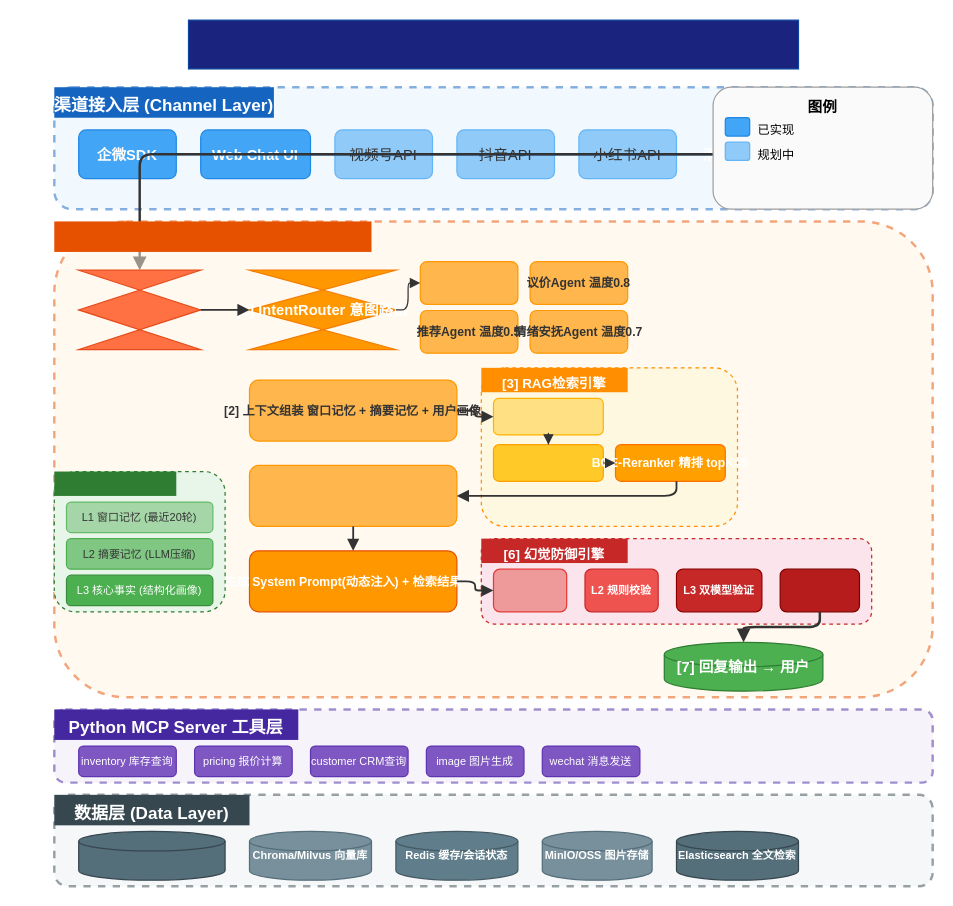
Image size: 953x906. Some labels were removed from this diagram. The centre of each missing label's shape, as x and y in pixels:
[0] 安全过滤 注入检测 no_reply分类: point 139,309
[4] 工具调用 (LLM自主决策) searchInventory / getAllCars / getStoreInfo: point 352,495
BM25+BGE-M3 混合检索: point 547,462
L1 Prompt规则: point 529,590
PostgreSQL 业务数据/记忆持久化: point 151,855
Query改写/扩展: point 547,416
售前Agent 温度0.3: point 468,282
对话记忆管理: point 115,483
智能汽车销售客服系统 — 整体数据流图 (DFD): point 492,44
校验-修正闭环 → 降级/转人工: point 819,590
核心处理层 (Spring AI Agent 编排层): point 212,236
